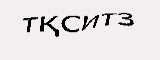З: (116, 12, 135, 27)
И: (81, 13, 98, 33)
С: (60, 13, 81, 32)
Т: (20, 16, 38, 33), (100, 11, 117, 27)
Қ: (39, 15, 60, 38)
